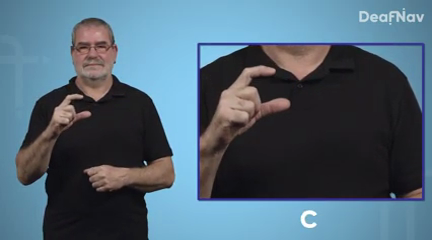C: (46, 89, 99, 137)
